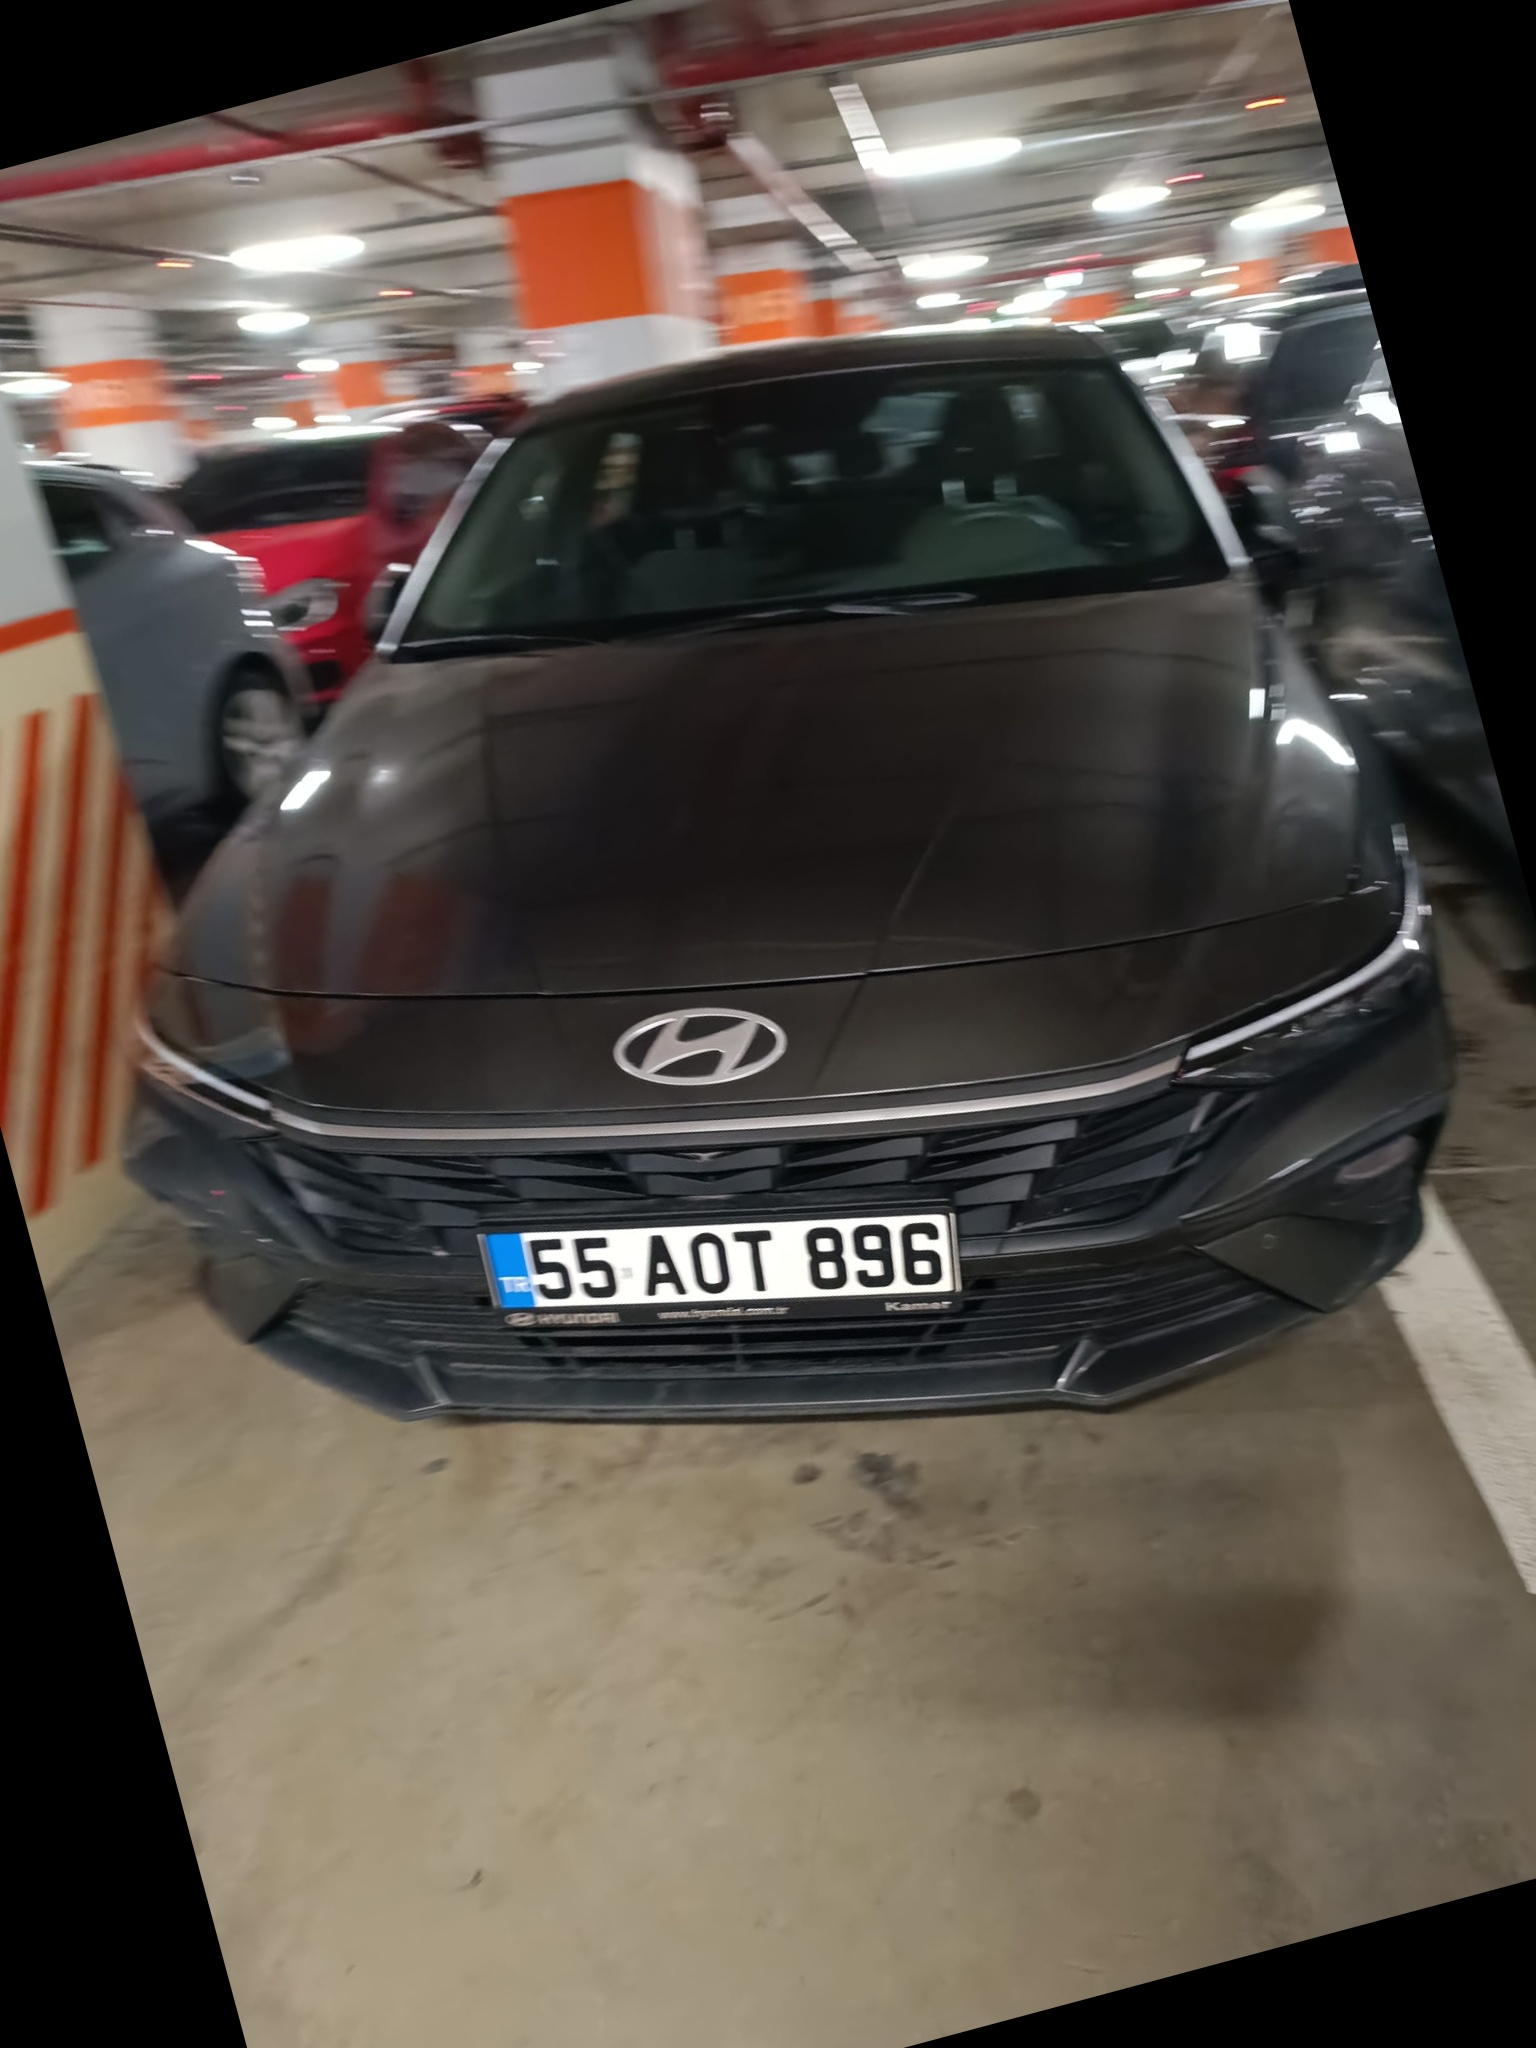plaka: (503, 1198, 949, 1323)
